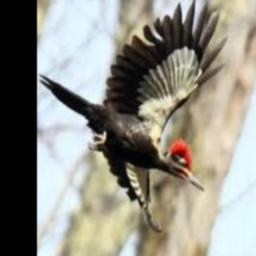Woodpecker: (39, 0, 228, 231)
